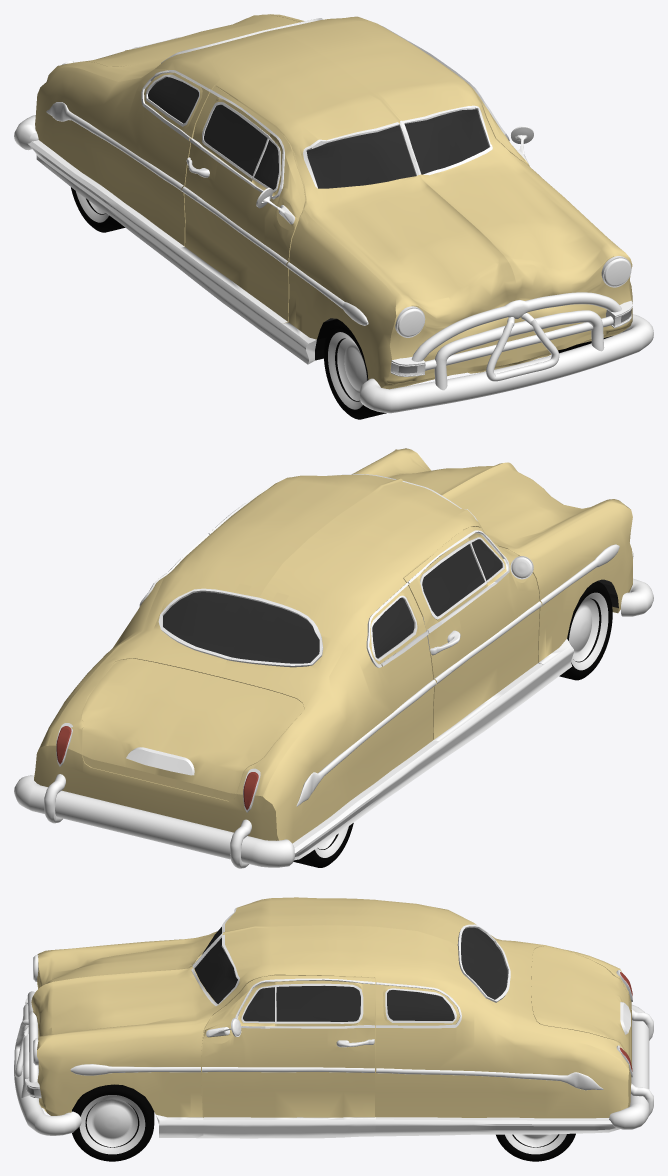
The model's file is AL_hhornet_yellow_TL.fbx.
3 views of the same model, one above another, from view 1: azimuth 30°, elevation 25°; view 2: azimuth 150°, elevation 25°; view 3: azimuth 270°, elevation 25° (orthographic). The views are drawn at different scales.
Visible parts, largest first — view 1: pPlane5, pCylinder3, pCylinder29, pCylinder5, pCylinder19, pCylinder9, pCylinder10, pCylinder6, pCylinder30, pCylinder7, pCylinder8, pCube2; view 2: pPlane5, pCylinder24, pCylinder29, pCylinder19, pCylinder30, pCylinder3, pCylinder25, pCylinder26; view 3: pPlane5, pCylinder28, pCylinder18, pCylinder24, pCylinder20, pCylinder3, pCylinder5, pCylinder10, pCylinder9.
Boxes of the visible parts, x1,y1,x2,y2 form: pPlane5: (28,14,632,389); pCylinder3: (360,314,653,413); pCylinder29: (323,320,386,419); pCylinder5: (411,292,621,361); pCylinder19: (46,102,368,325); pCylinder9: (434,310,604,390); pCylinder10: (486,313,559,381); pCylinder6: (425,316,613,370); pCylinder30: (71,187,125,232); pCylinder7: (601,256,631,287); pCylinder8: (395,306,425,337); pCube2: (390,356,425,376); pPlane5: (34,448,632,860); pCylinder24: (14,775,294,867); pCylinder29: (559,581,612,680); pCylinder19: (296,544,619,806); pCylinder30: (293,823,353,867); pCylinder3: (621,578,653,616); pCylinder25: (44,774,65,823); pCylinder26: (230,819,251,868); pPlane5: (31,897,631,1138); pCylinder28: (72,1084,154,1161); pCylinder18: (70,1064,603,1090); pCylinder24: (609,1004,649,1129); pCylinder20: (496,1133,575,1161); pCylinder3: (14,1060,81,1135); pCylinder5: (27,991,38,1082); pCylinder10: (14,1019,28,1077); pCylinder9: (21,1004,29,1097).
Size of the model in its own units: 2.14 by 1.6 by 4.95.
